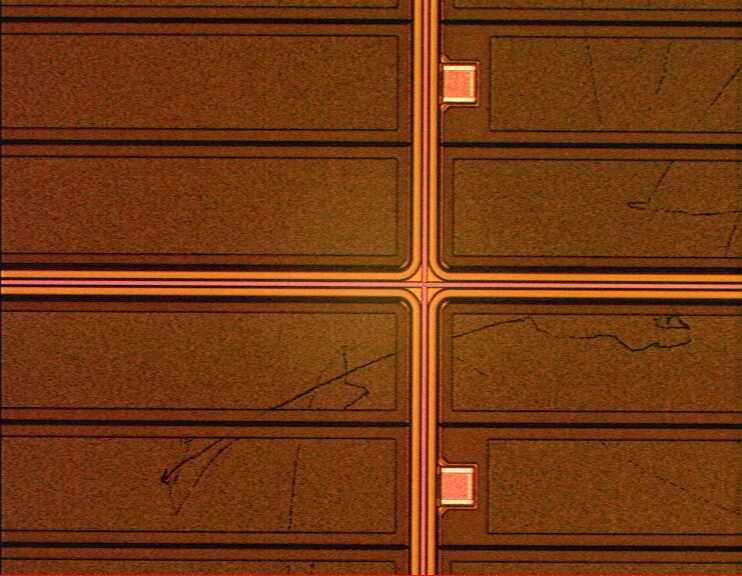SCRATCH: (154, 1, 742, 576)
